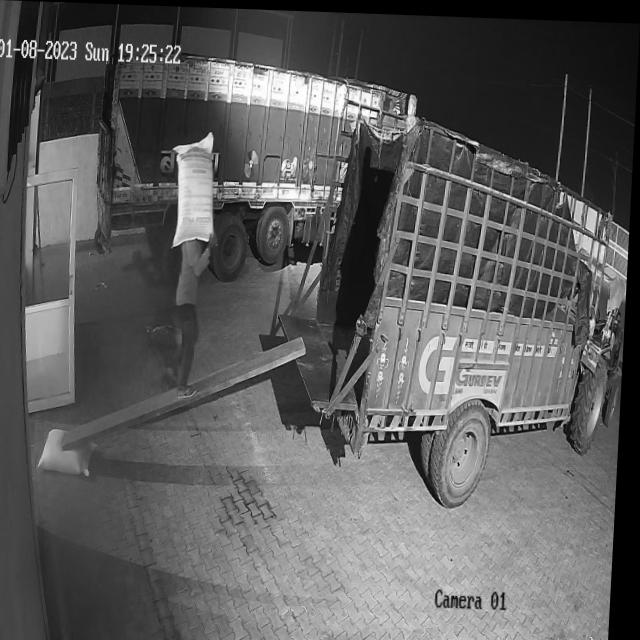sack: (170, 129, 220, 247), (43, 426, 99, 474)
